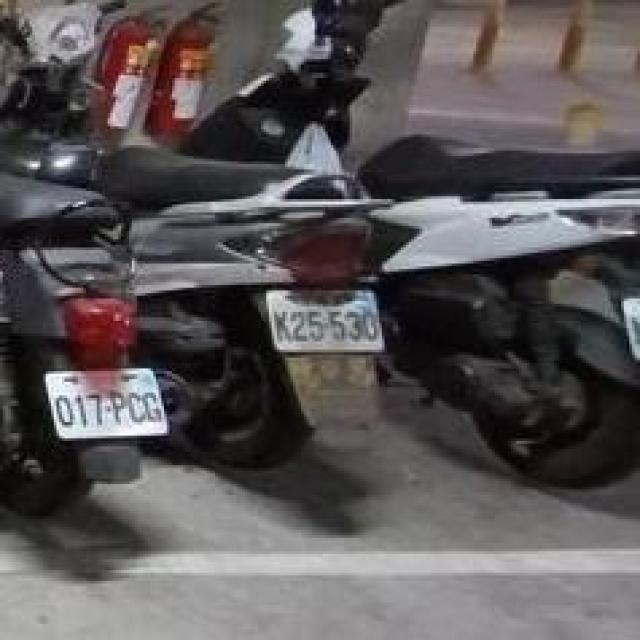W: (38, 352, 170, 447), (255, 277, 392, 363), (616, 274, 640, 371)
